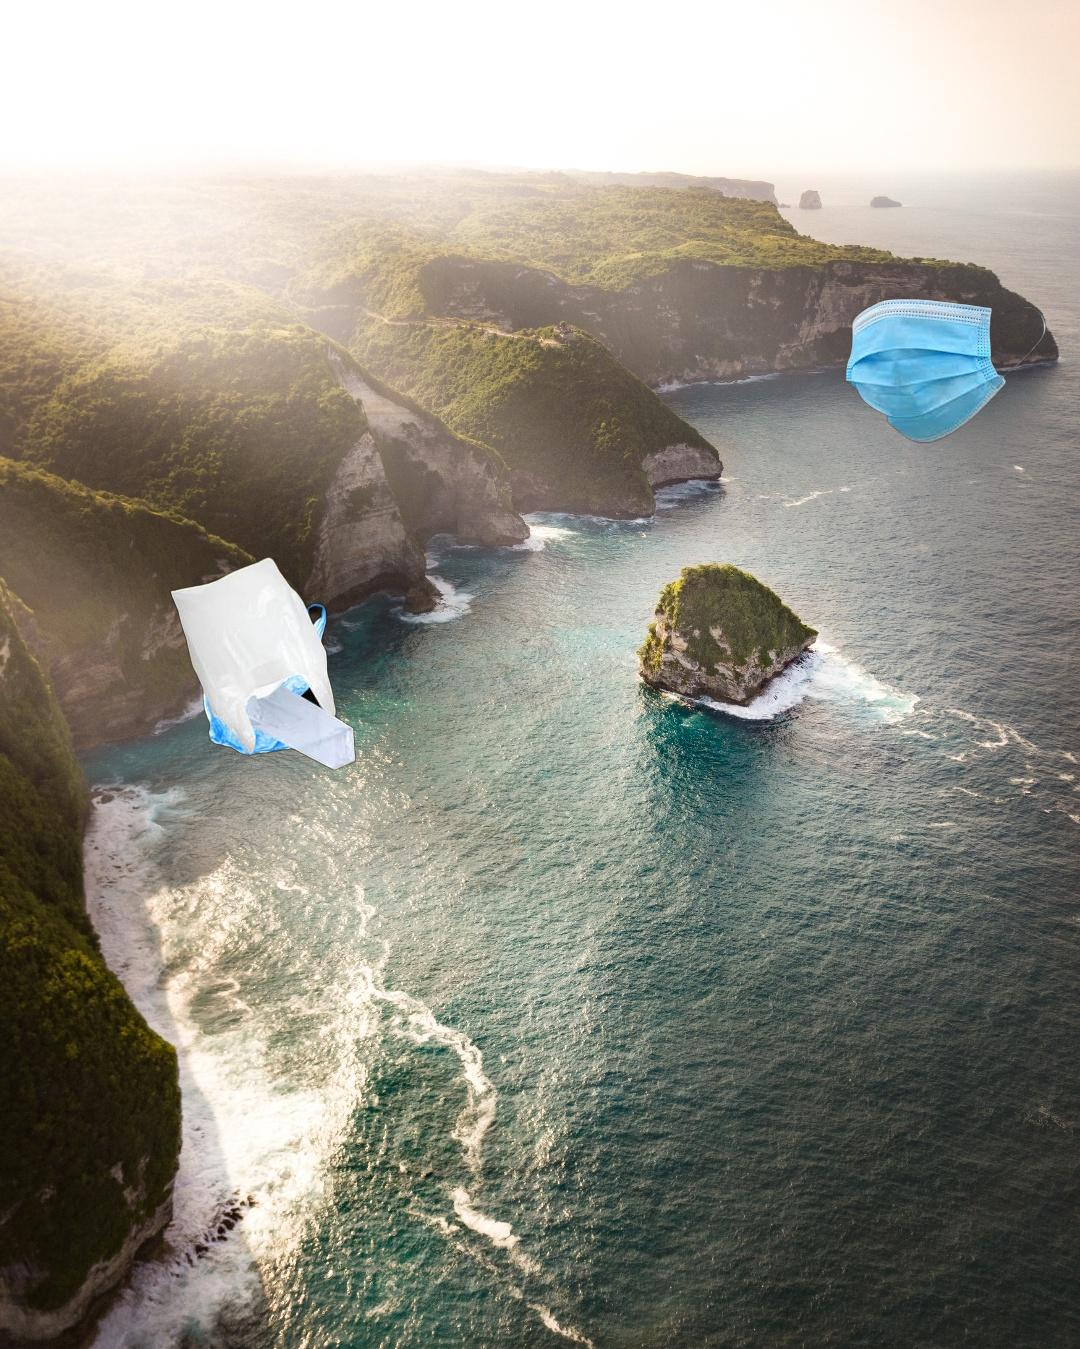plastic-bag: (168, 554, 359, 771)
trash: (843, 296, 1049, 446)
